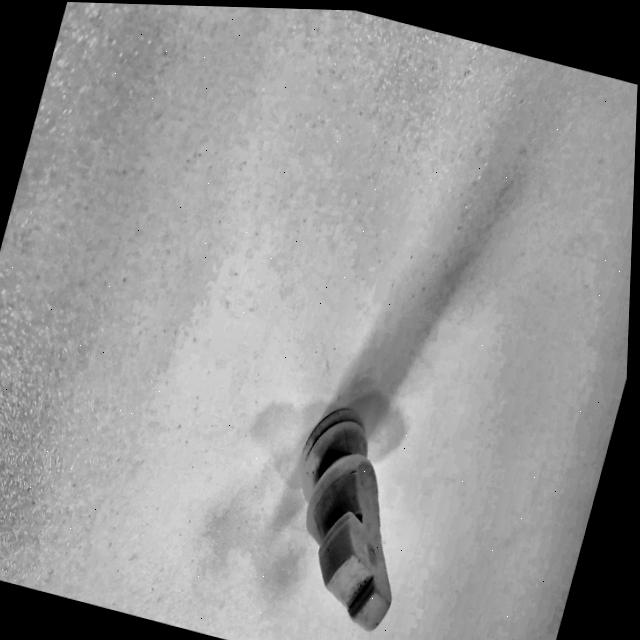white-knight: (296, 406, 391, 630)
